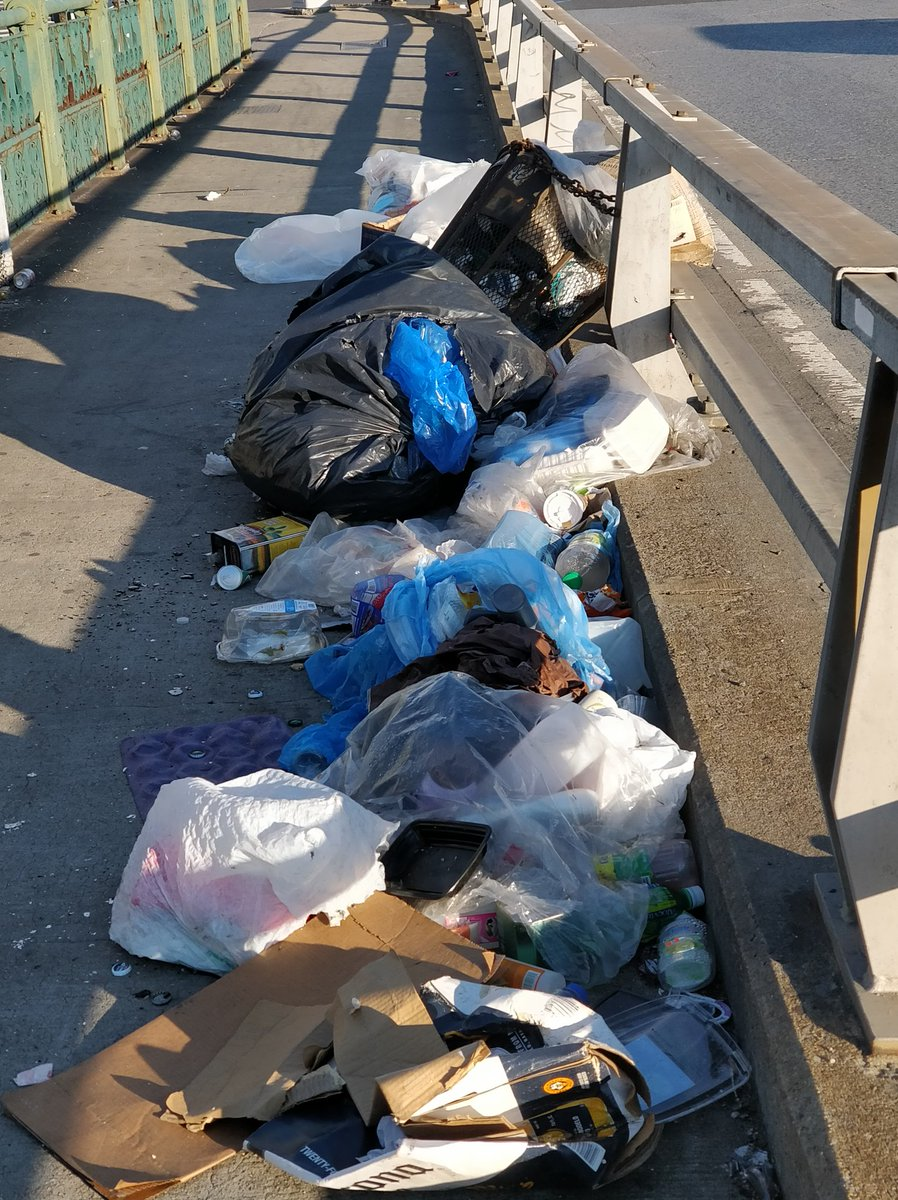trash: (111, 116, 743, 1200)
